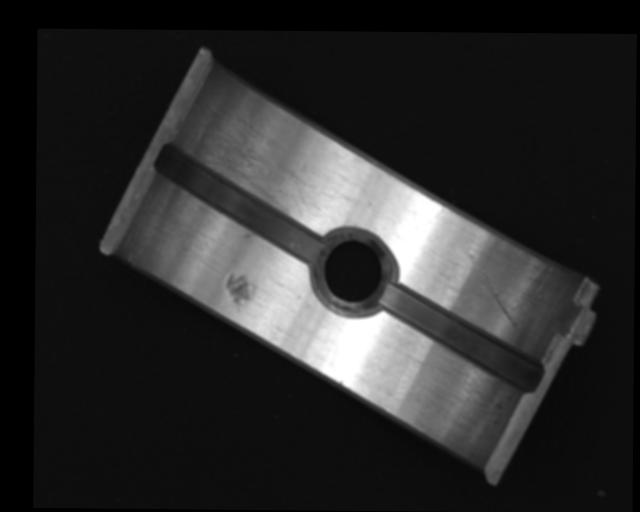bruise: (225, 272, 253, 314)
gap: (153, 143, 324, 264), (379, 283, 542, 393)
hole: (313, 229, 391, 317)
nick: (463, 248, 520, 330)
scratch: (195, 105, 321, 222)
